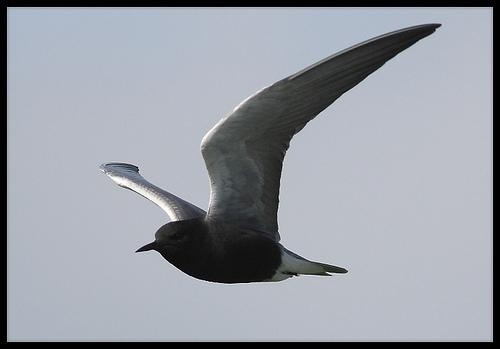bird: (93, 22, 442, 286)
